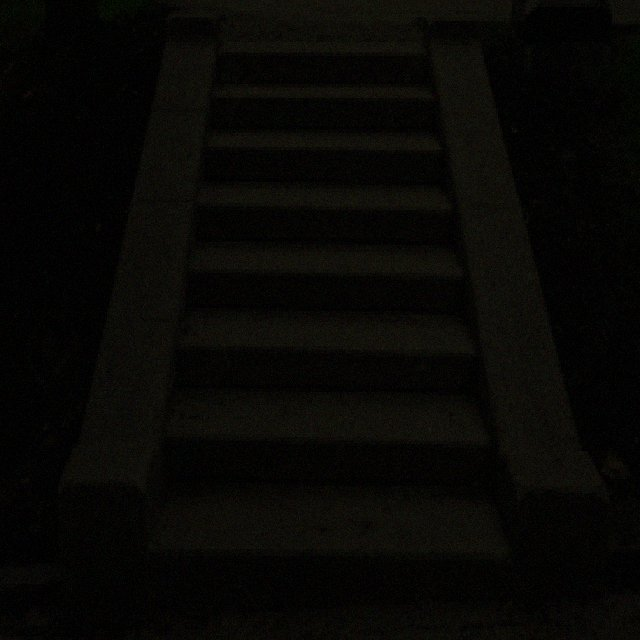stair: (59, 9, 608, 621)
